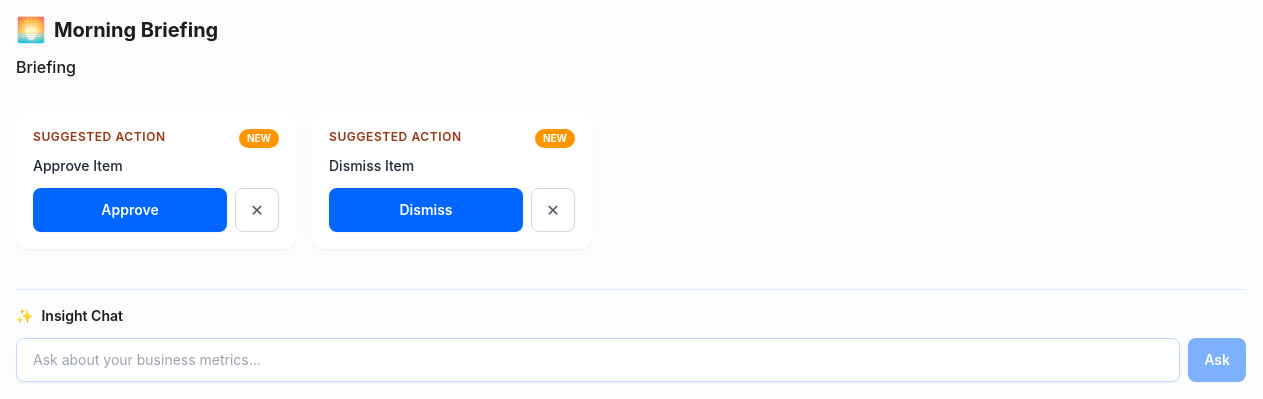
Scenario: MorningBriefingCard › handles triage item actions correctly
Expected: the text "Approve Item" is shown, [33,157,123,174]
Expected: the text "Dismiss Item" is shown, [329,157,414,174]
Click the button with test id "action-card-approve-1" at x=130, y=210, box [33,188,227,232]
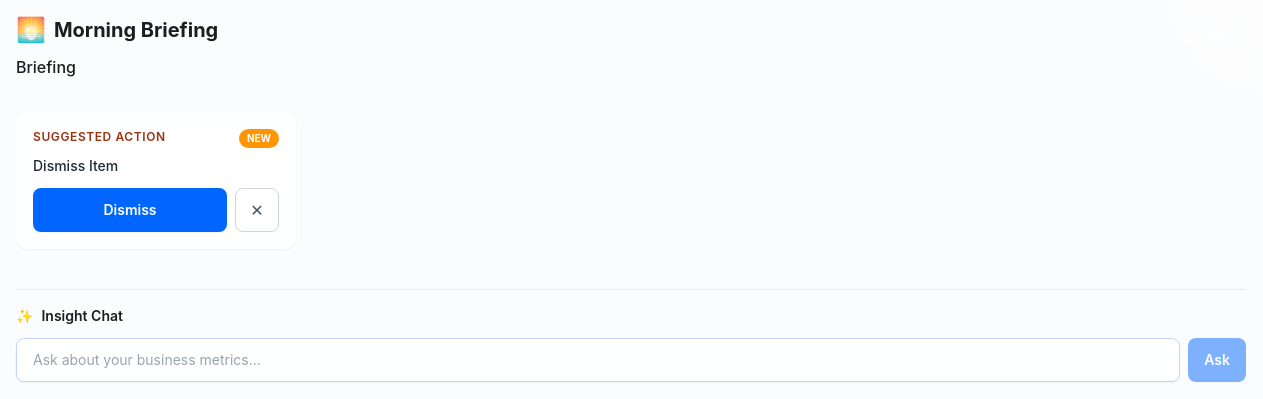
Expected: the text "Approve Item" is gone
Click the button with test id "action-card-dismiss-2" at x=257, y=210, box [235,188,279,232]
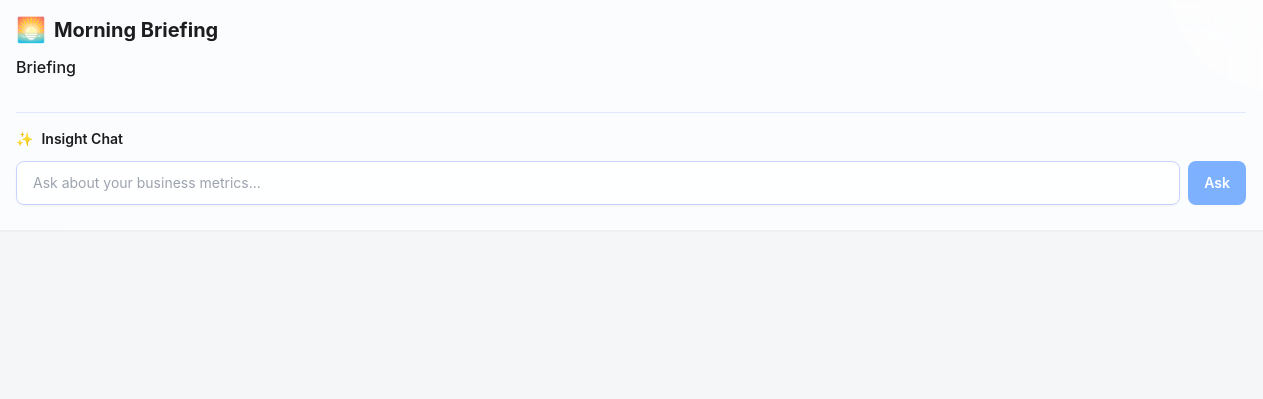
Expected: the text "Dismiss Item" is gone
